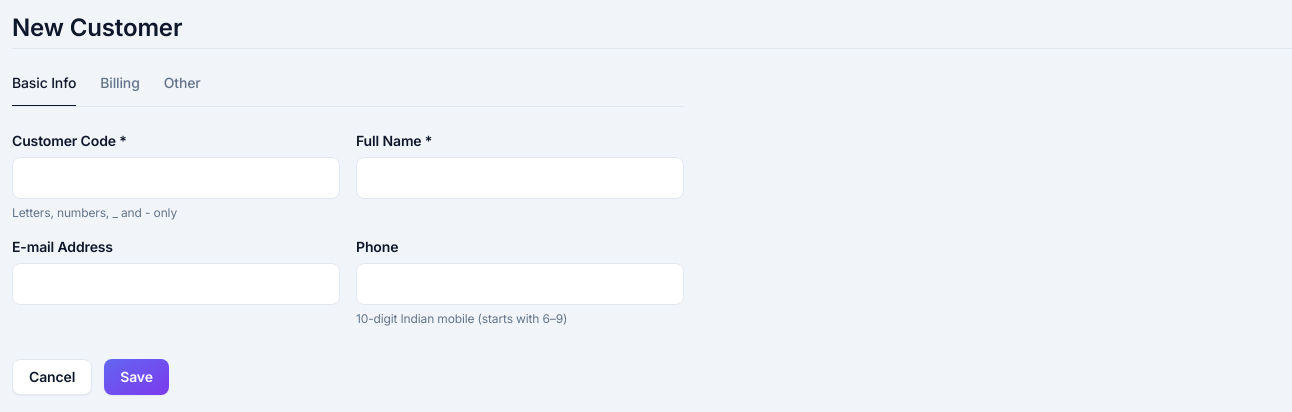
CustomerFormPage › shows validation errors for empty required fields
Click the button "Save" at [136, 377], box [104, 359, 169, 395]
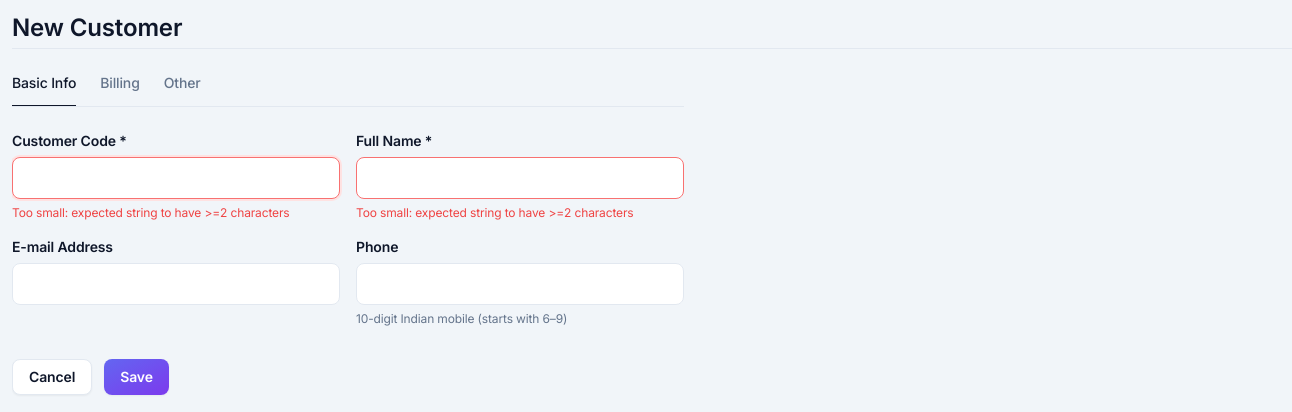
Check: the message below "Customer Code *" is shown, box [12, 205, 290, 220]
